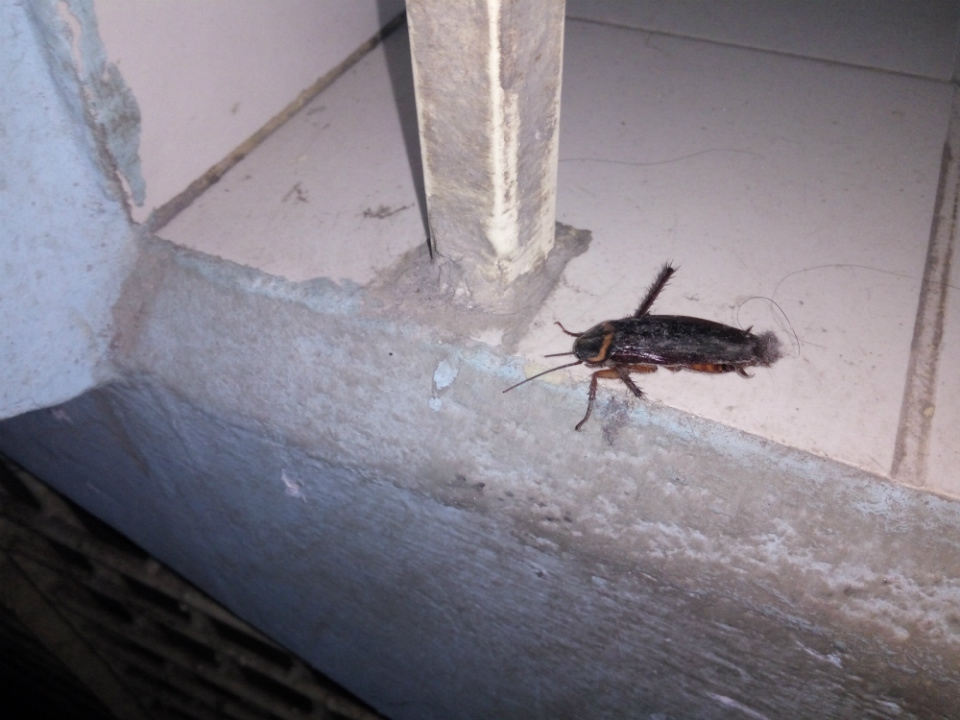cockroach: (501, 266, 822, 428)
